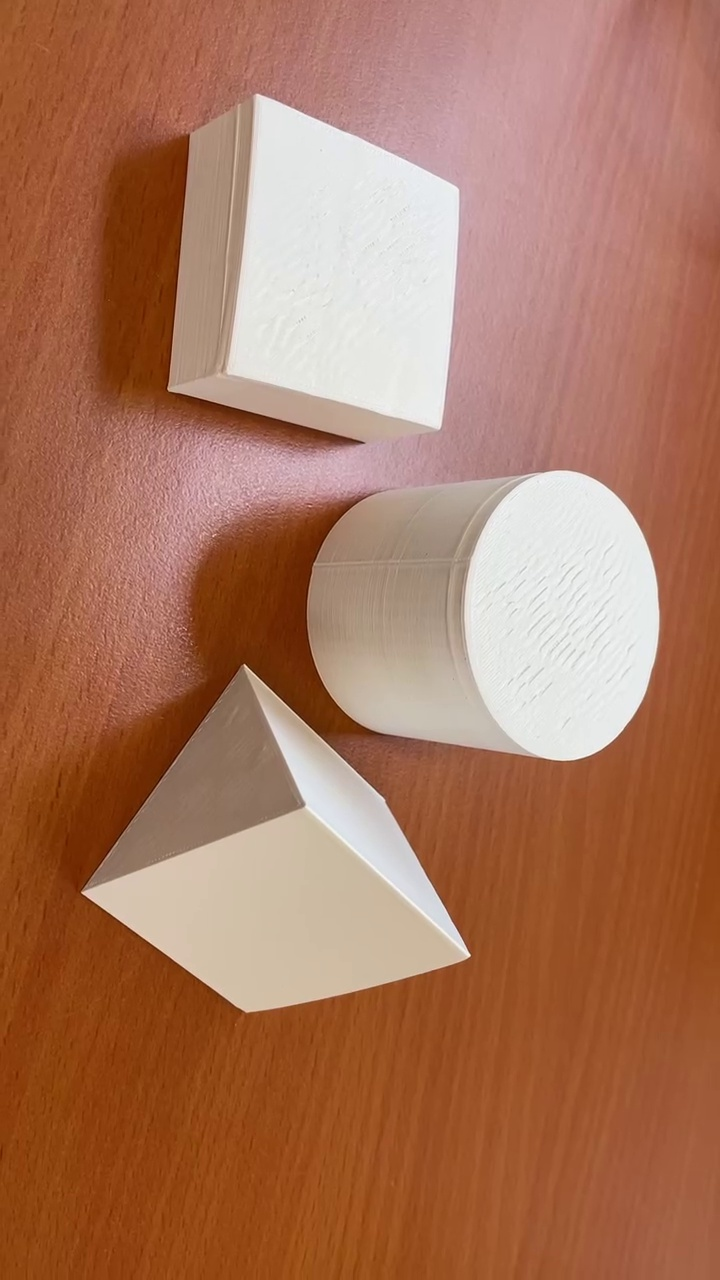Cube_short: (171, 93, 461, 448)
Cylinder: (307, 468, 660, 759)
Triangle: (67, 663, 474, 1018)
